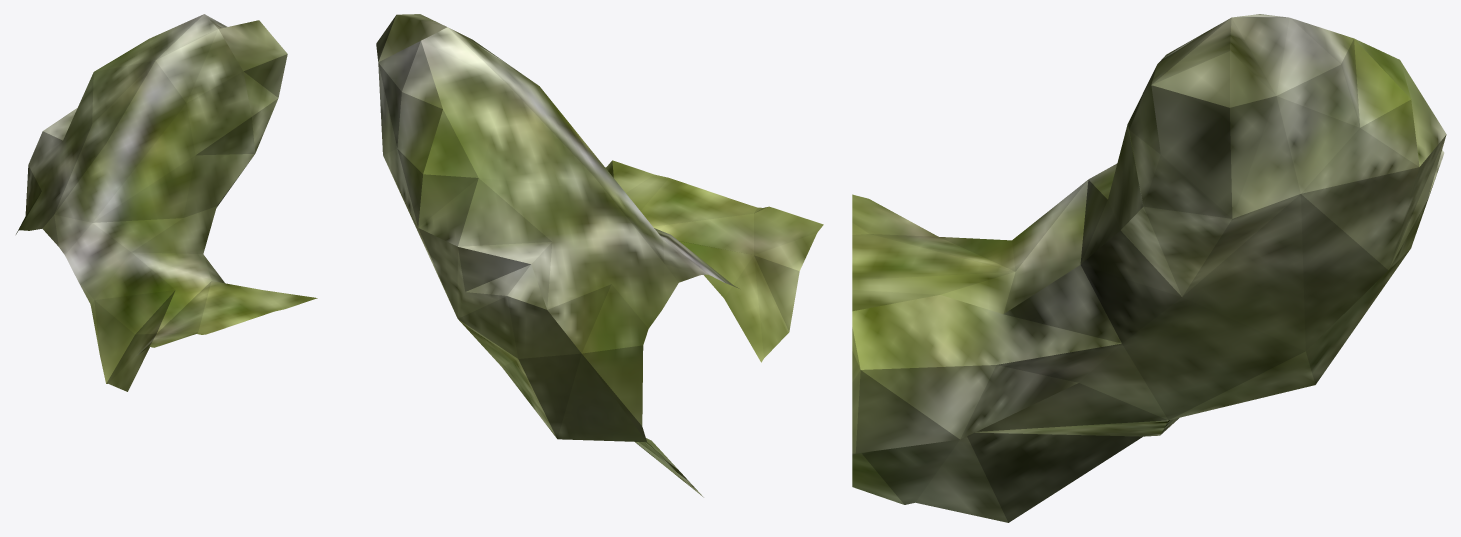
3 views of the same model, side by side, from view 1: azimuth 30°, elevation 25°; view 2: azimuth 150°, elevation 25°; view 3: azimuth 270°, elevation 25° (orthographic). The views are drawn at different scales.
Bounding box in the file's own units: 0.4821 × 0.771 × 0.6361.
1 material, 1 textured.
